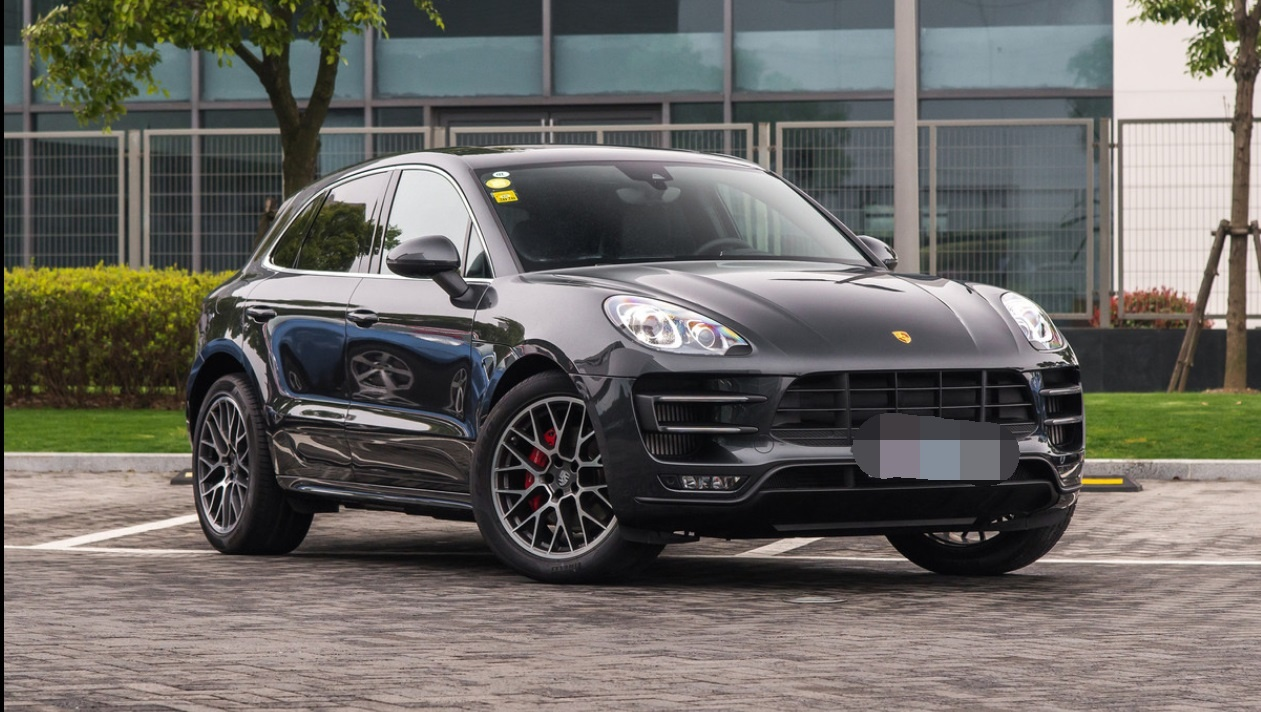SUV: (176, 129, 1082, 610)
